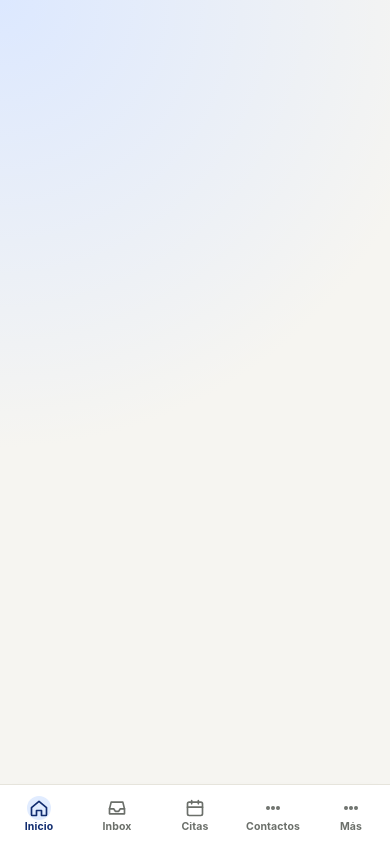
Test: <ShellBottomNav/> › al pulsar "Más" abre una sheet con los items overflow
Click the button "Más" at [351, 815], box [312,792,389,837]
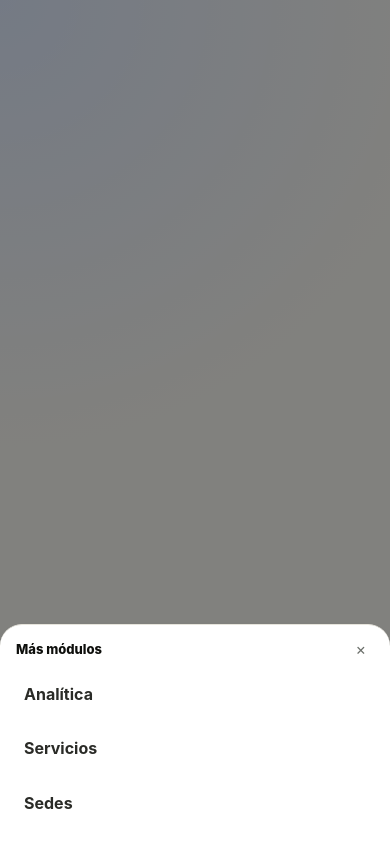
Expected: the button "Analítica" is shown, [12,676,378,712]
Expected: the button "Servicios" is shown, [12,730,378,766]
Expected: the button "Sedes" is shown, [12,785,378,821]
